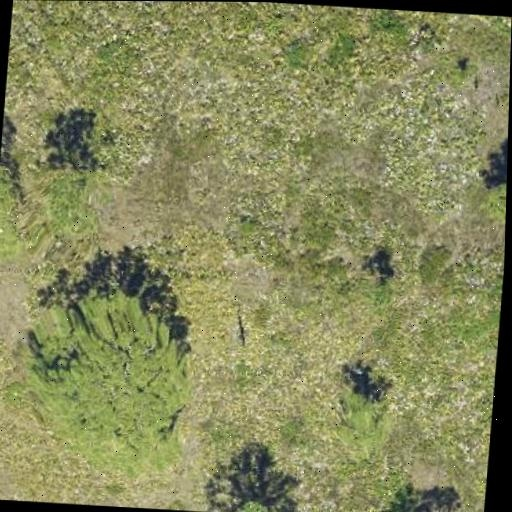tree-top: (18, 291, 198, 468), (330, 383, 397, 455), (39, 172, 105, 241), (355, 251, 402, 311), (475, 169, 507, 226), (205, 497, 301, 512)
